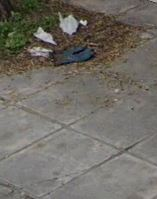trash: (23, 12, 96, 67)
